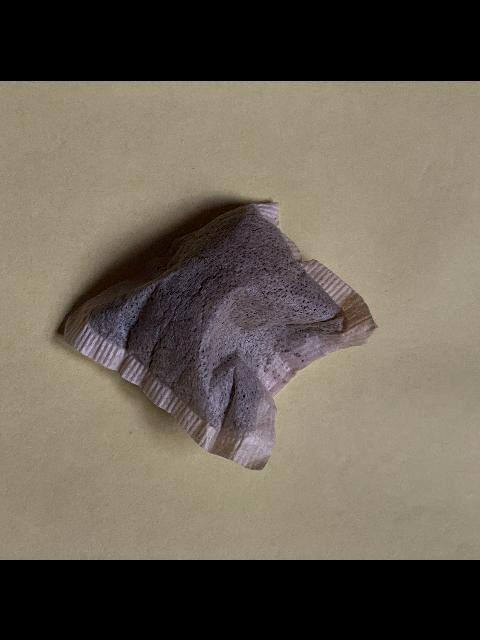teabag: (60, 201, 379, 471)
